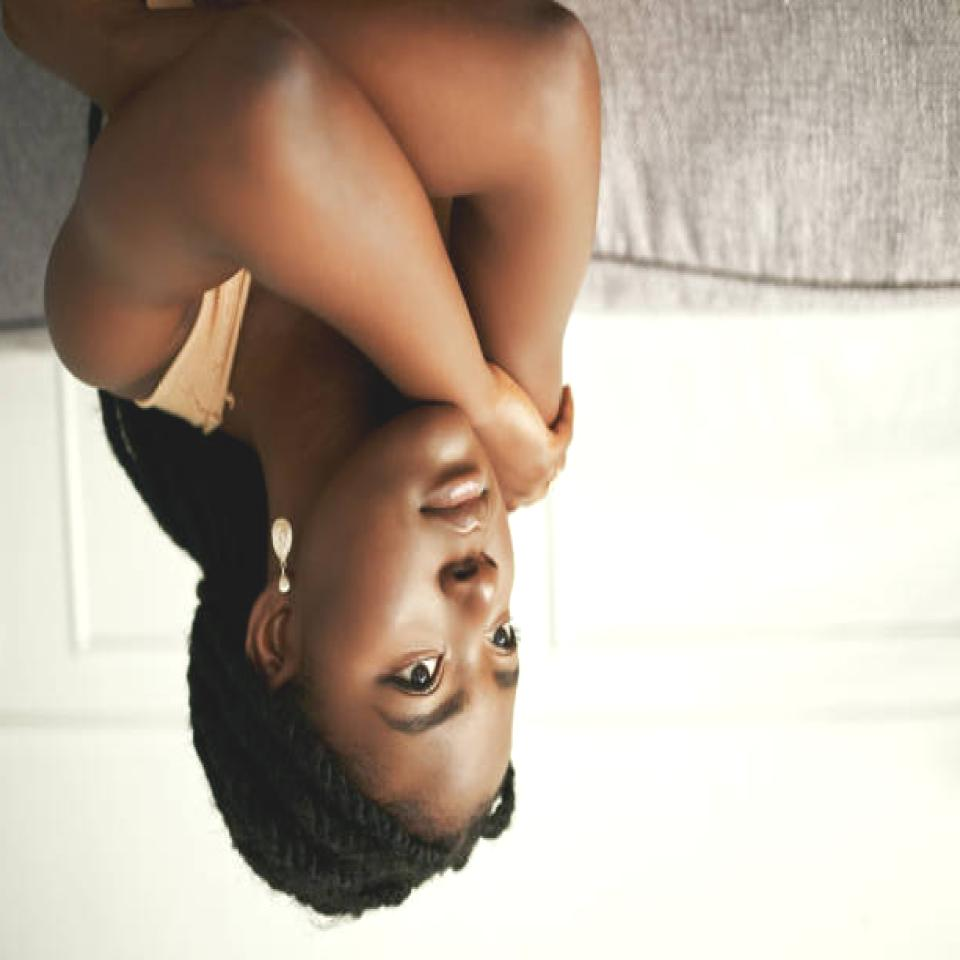Sadness: (232, 412, 522, 829)
